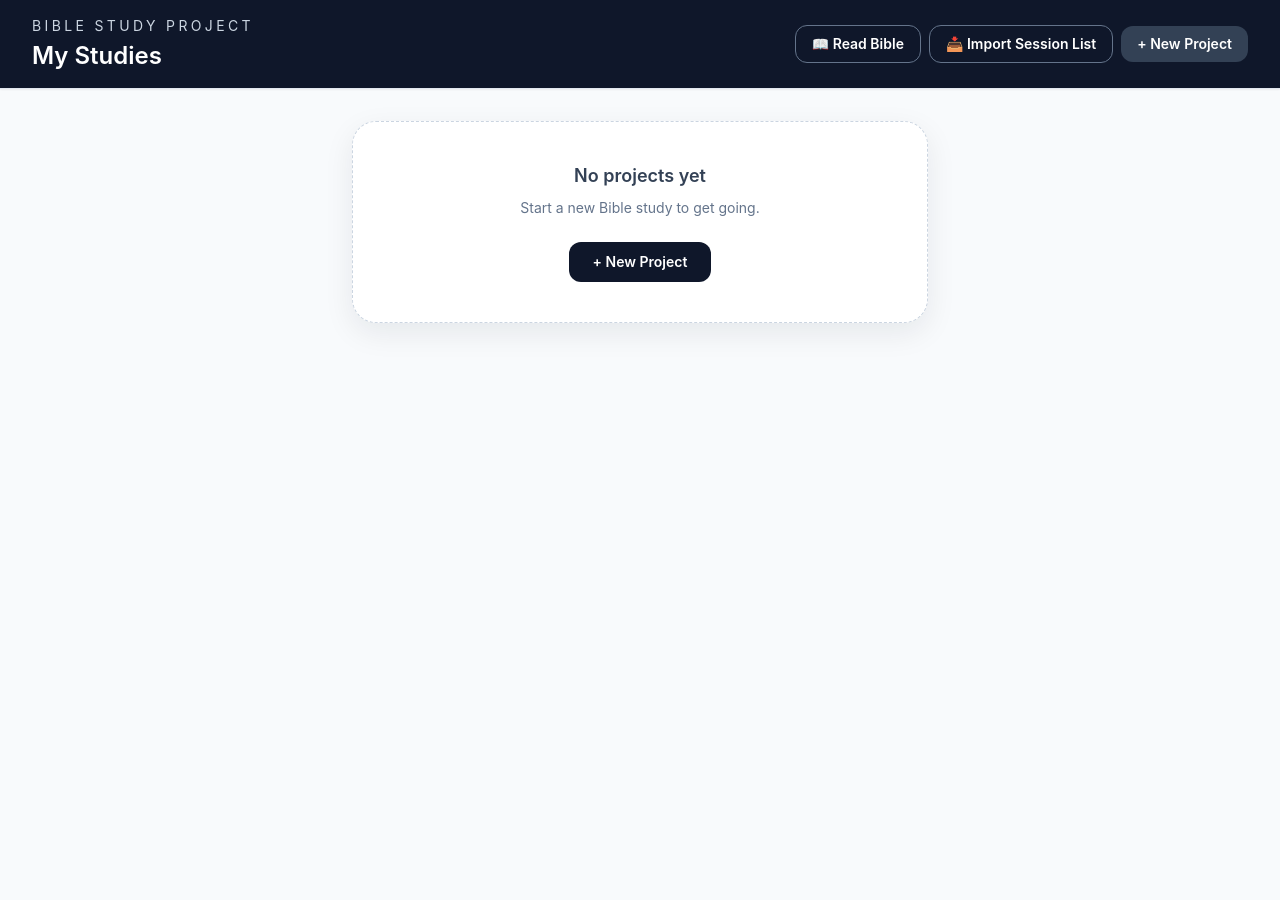
Scenario: Chunk management › chunk count increments after each addition
Click the button "+ New Project" in the row of "Bible Study Project" at x=1185, y=44, box [1121, 26, 1248, 62]
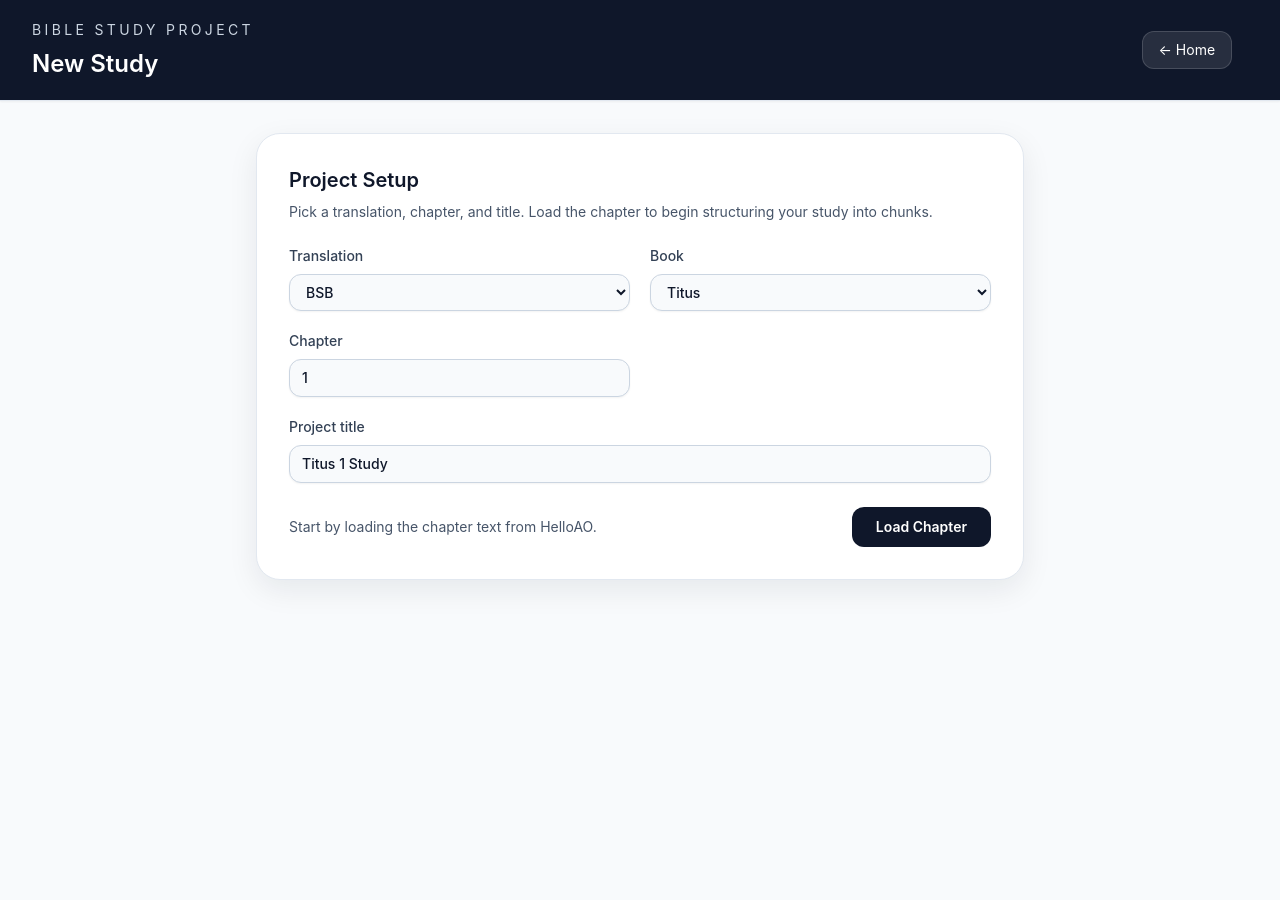
Click the button "Load Chapter" at x=921, y=527, box [852, 507, 991, 547]
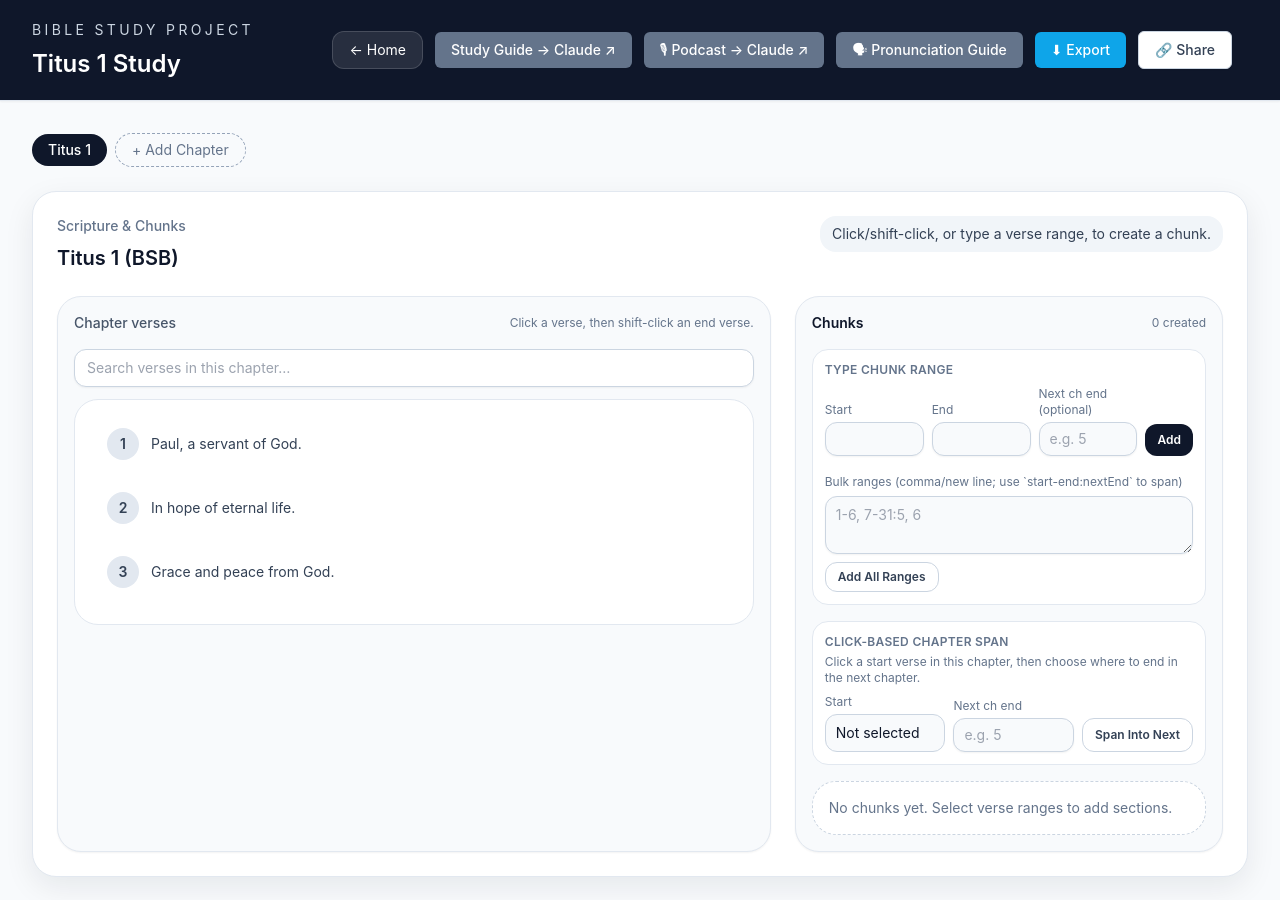
Expected: the text "Scripture & Chunks" is shown, [57, 216, 186, 236]
Click the button "1 Paul, a servant of God." at x=123, y=444, box [91, 416, 737, 472]
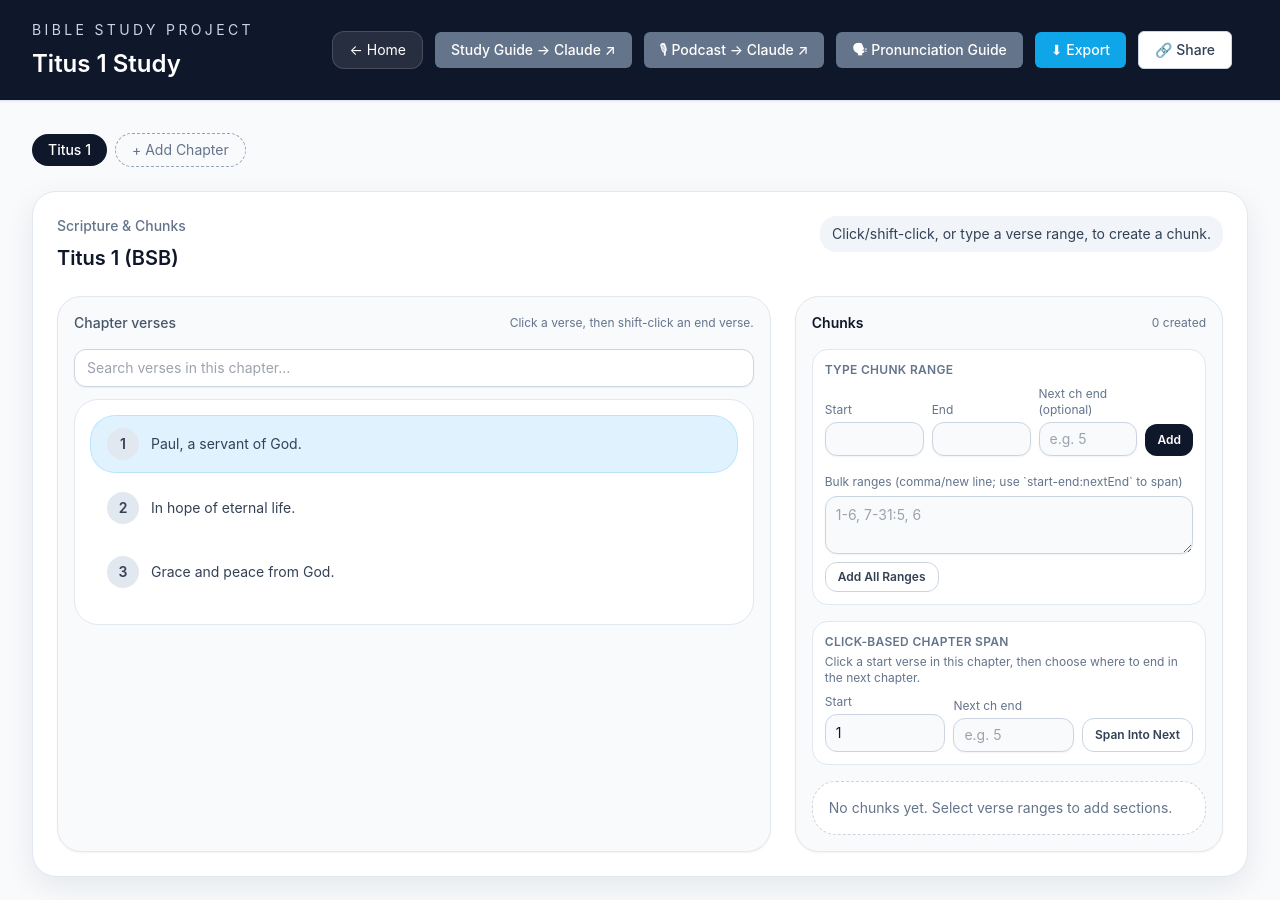
Click the button "1 Paul, a servant of God." at x=123, y=444, box [91, 416, 737, 472]
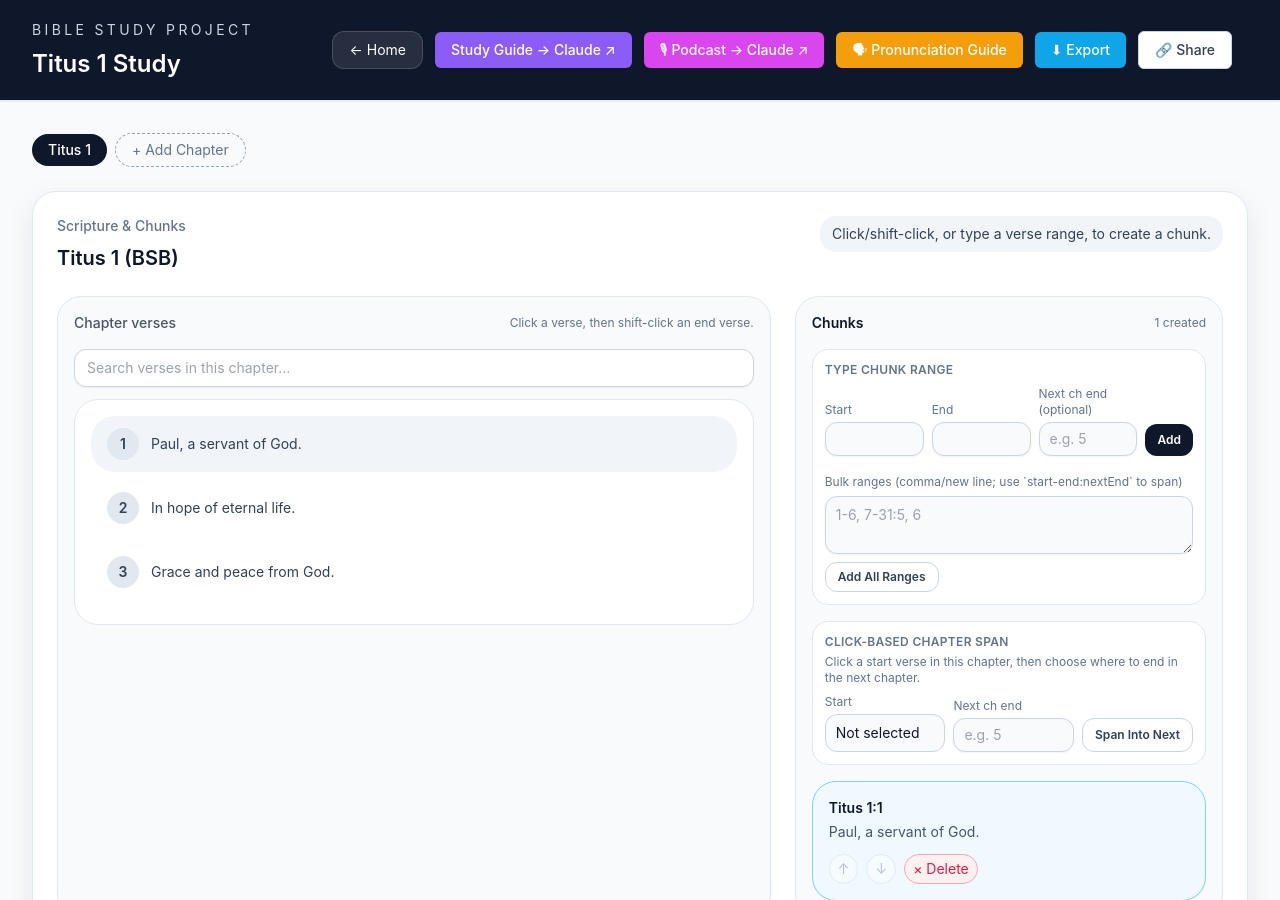
Expected: the text "1 created" is shown, [1154, 315, 1206, 331]
Click the button "2 In hope of eternal life." at x=123, y=508, box [91, 480, 737, 536]
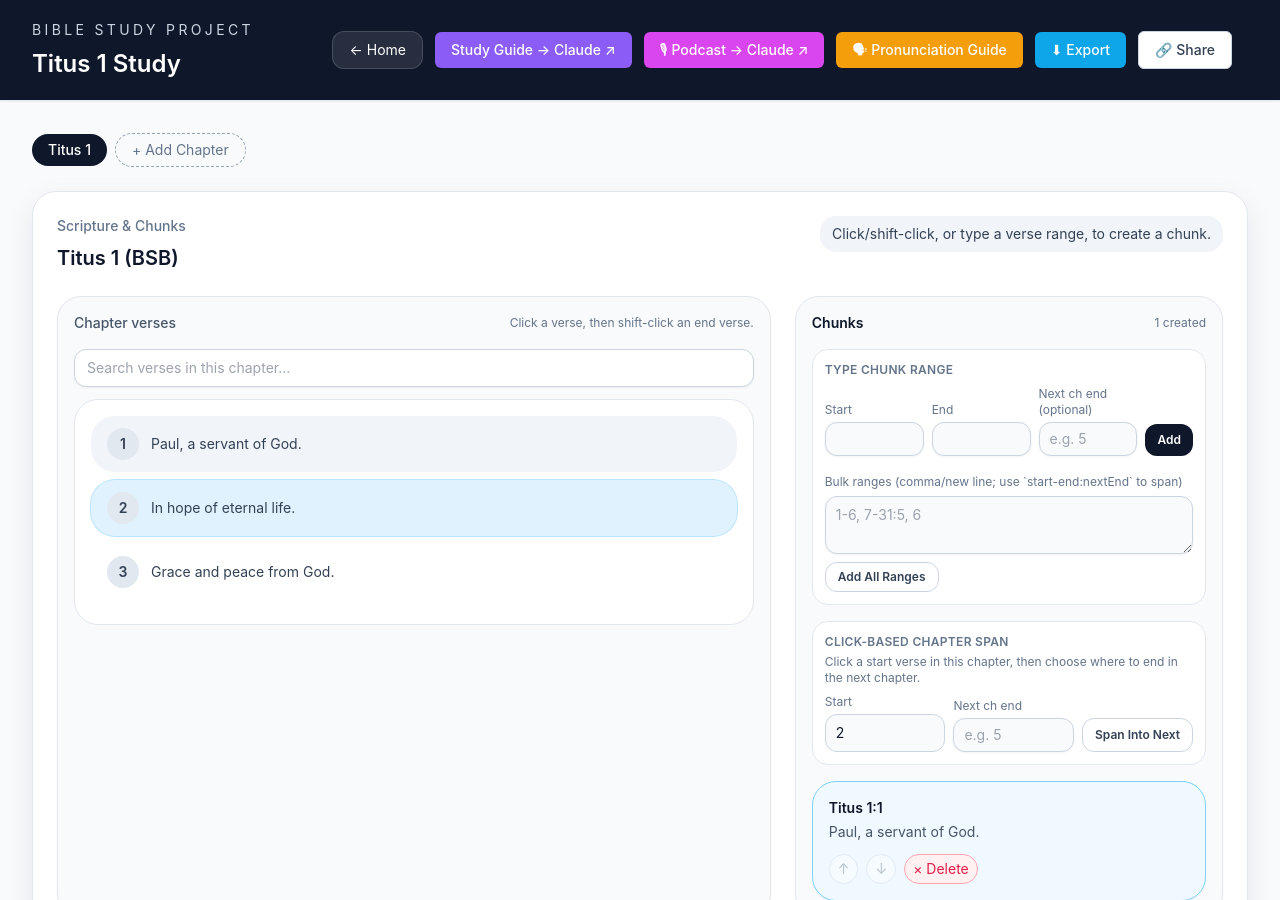
Click the button "3 Grace and peace from God." at x=123, y=572, box [91, 544, 737, 600]
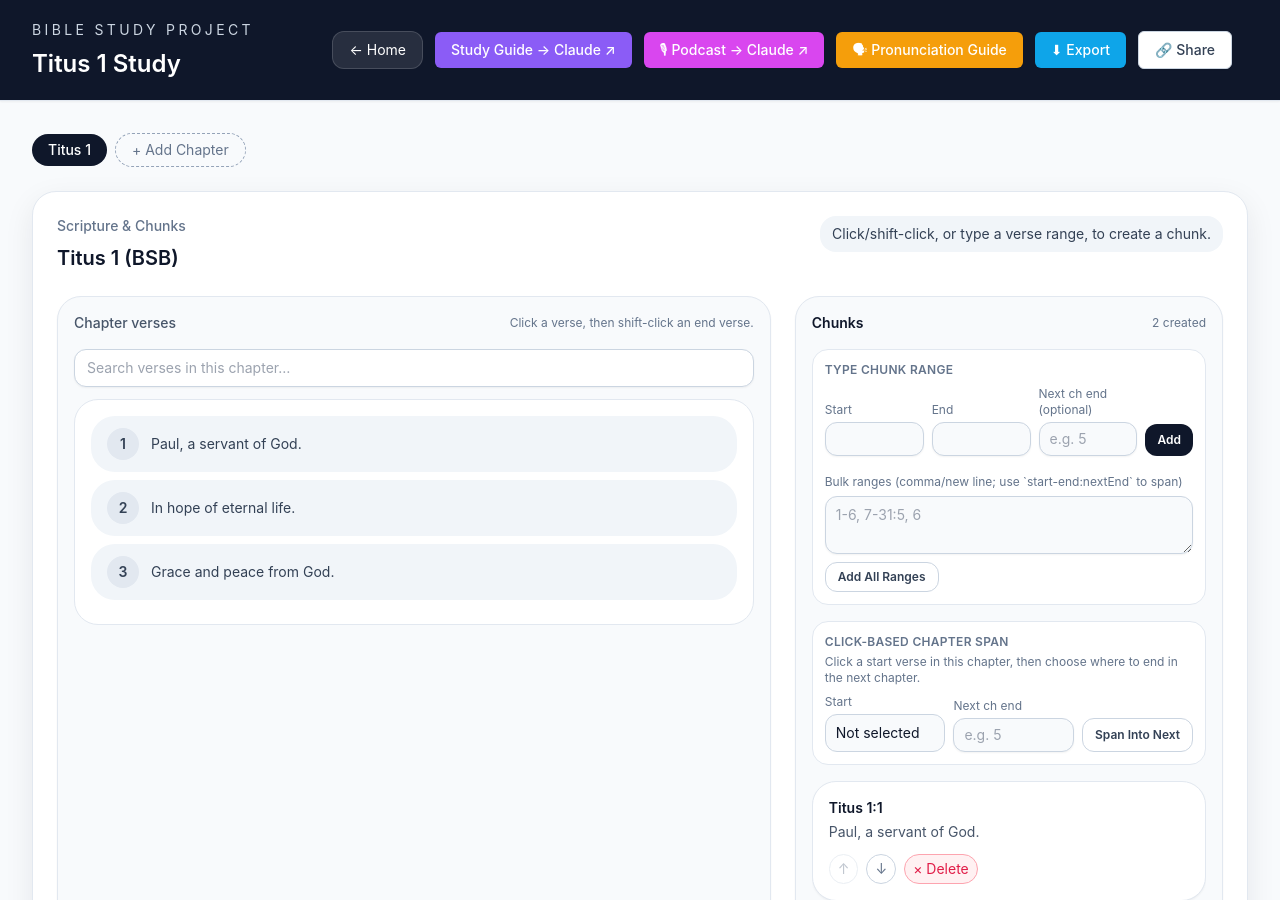
Expected: the text "2 created" is shown, [1152, 315, 1206, 331]
